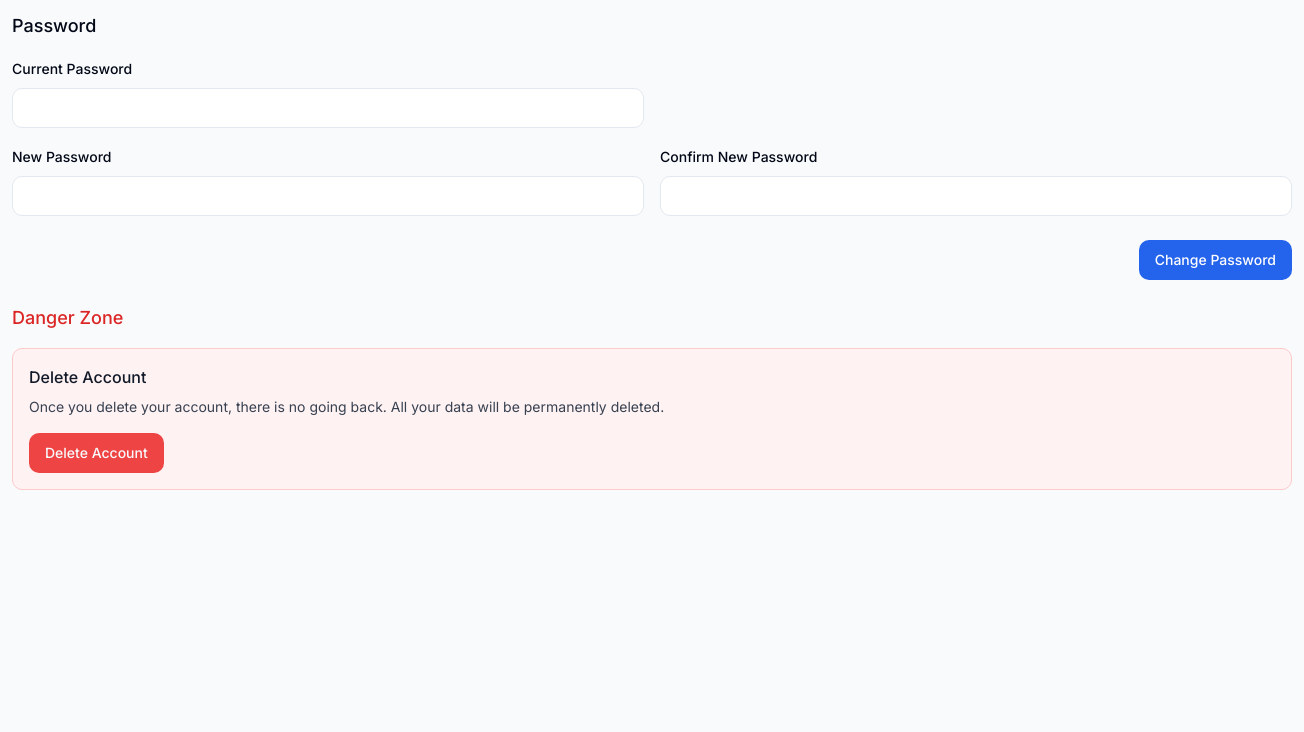
AccountSection — password match indicator › shows the match status when passwords match
This screenshot has width=1304, height=732.
Type "matchPass1" into the password field with id "newPassword" at (328, 196), box top-left (12, 176), bottom-right (644, 216)
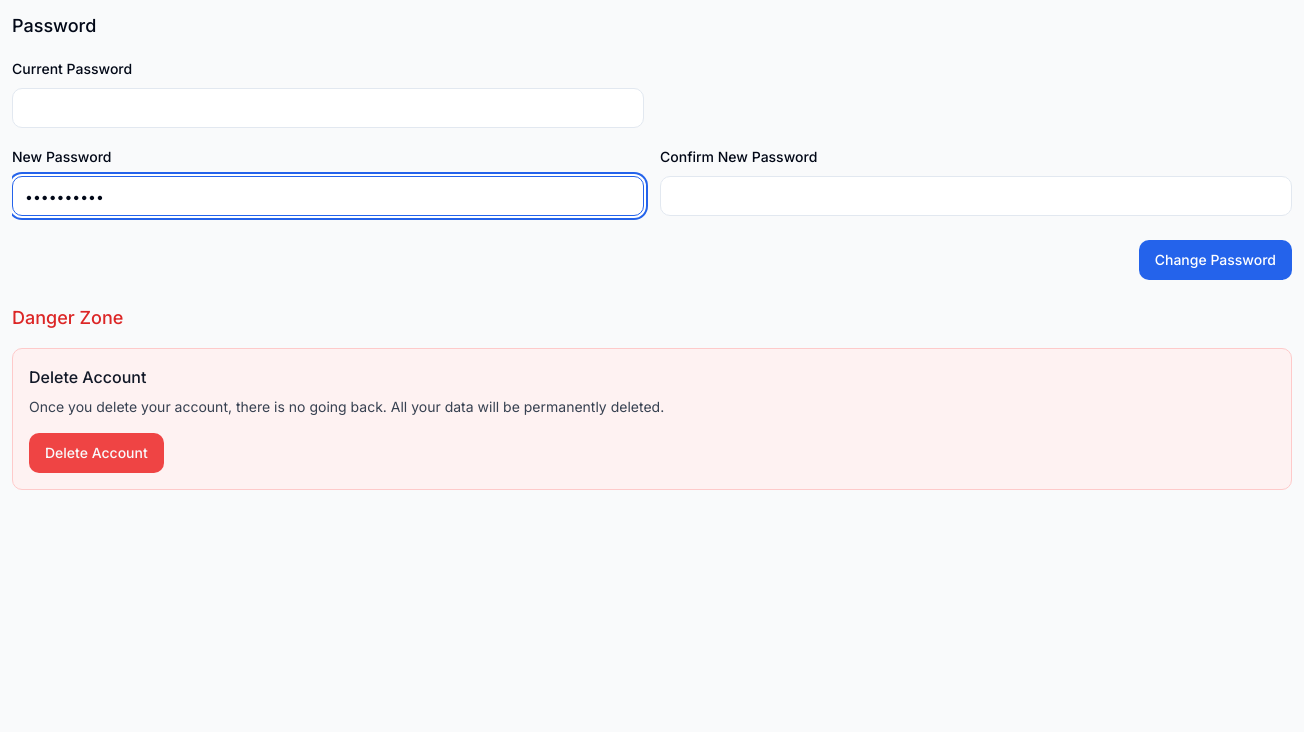
Type "matchPass1" into the password field labelled "Confirm New Password" at (976, 196), box top-left (660, 176), bottom-right (1292, 216)
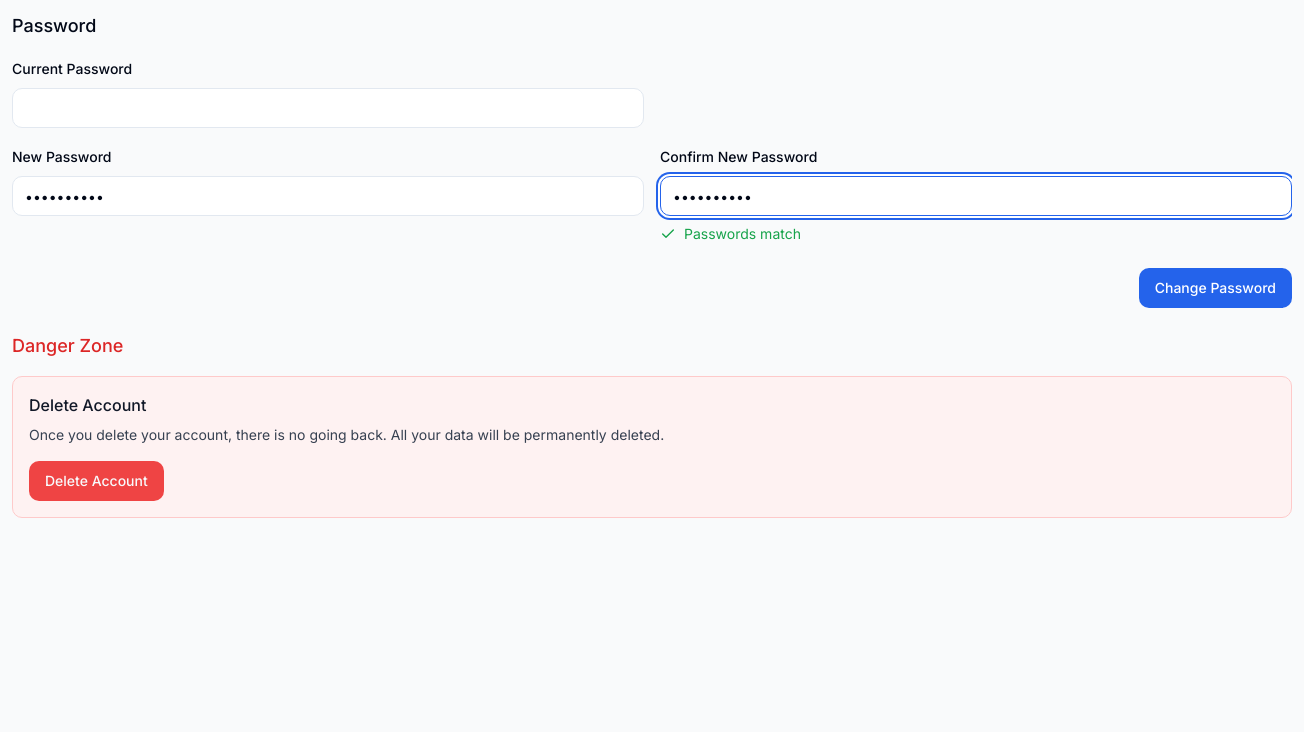
Check: the message "Passwords match" is shown, box top-left (660, 225), bottom-right (801, 242)
Check: the message shows "match", box top-left (684, 225), bottom-right (801, 242)
